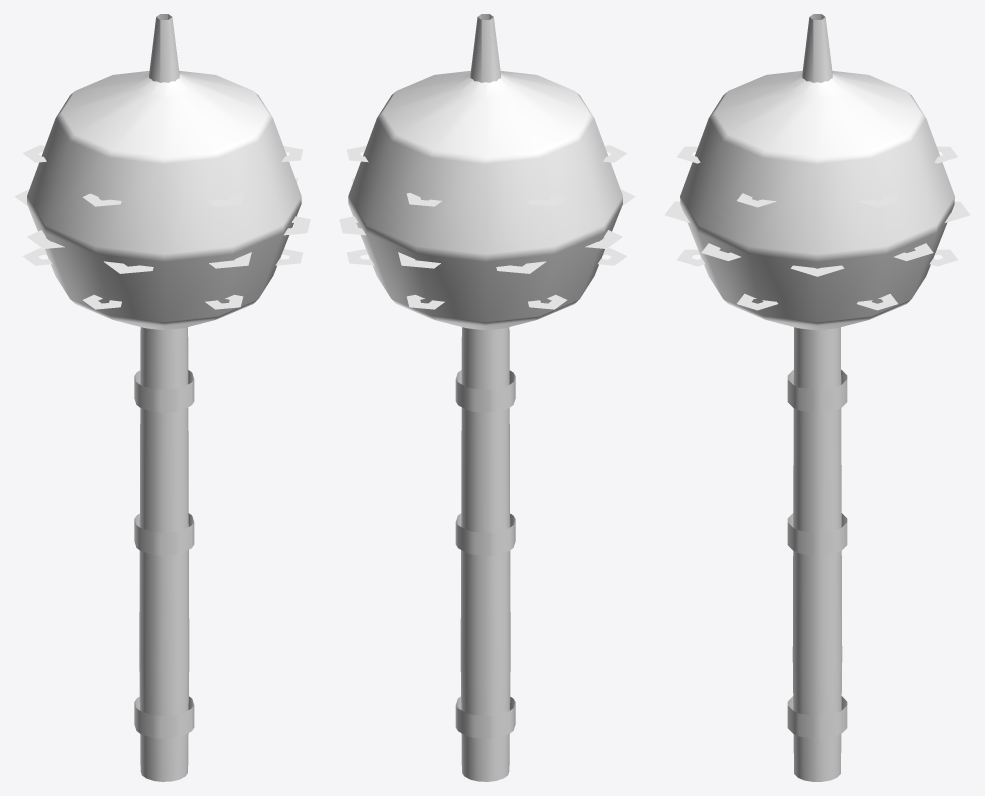
Rendered from gada.glb.
3 views of the same model, side by side, from view 1: azimuth 30°, elevation 25°; view 2: azimuth 150°, elevation 25°; view 3: azimuth 270°, elevation 25° (orthographic).
Parts seen in each view (by area): view 1: Gada; view 2: Gada; view 3: Gada.
Part boxes in pixels (x1=…): Gada: x1=14, y1=14, x2=310, y2=781; Gada: x1=339, y1=14, x2=635, y2=781; Gada: x1=664, y1=14, x2=970, y2=781.
Size of the model in its own units: 0.4814 by 1.32 by 0.4856.
Materials: 1 (1 with a texture image).
